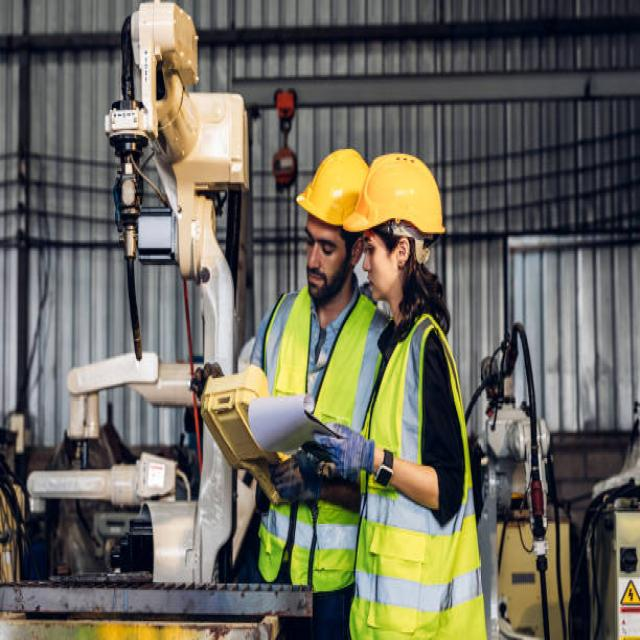Robotic-arm: (94, 0, 249, 381)
